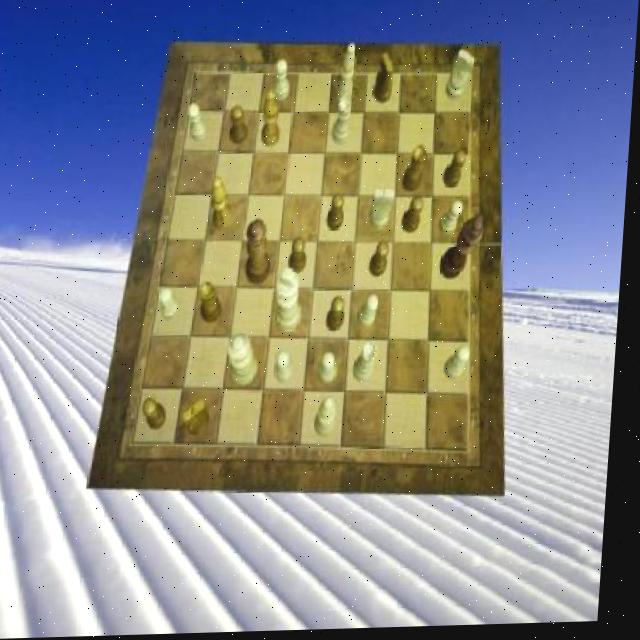bishop: (211, 178, 236, 233), (262, 92, 284, 150)
black-bishop: (442, 216, 488, 283)
black-king: (373, 55, 395, 107), (186, 401, 215, 439)
black-knight: (445, 154, 468, 192), (147, 400, 173, 433), (405, 199, 428, 236), (231, 108, 251, 147), (372, 243, 393, 279), (292, 238, 312, 275), (329, 195, 348, 233), (331, 297, 350, 334)
black-pawn: (247, 221, 278, 288)
black-queen: (403, 147, 429, 193), (201, 282, 226, 325)
black-rook: (337, 46, 359, 106), (319, 399, 343, 440)
white-bishop: (277, 268, 307, 335)
white-king: (446, 52, 476, 103), (371, 191, 398, 233)
white-knight: (449, 349, 475, 384), (187, 104, 210, 143), (441, 204, 466, 239), (161, 289, 185, 324), (361, 295, 383, 330), (274, 62, 292, 102), (322, 353, 343, 386), (280, 351, 299, 385)
white-pawn: (230, 333, 265, 388)
white-queen: (333, 99, 354, 147), (356, 345, 381, 385)
